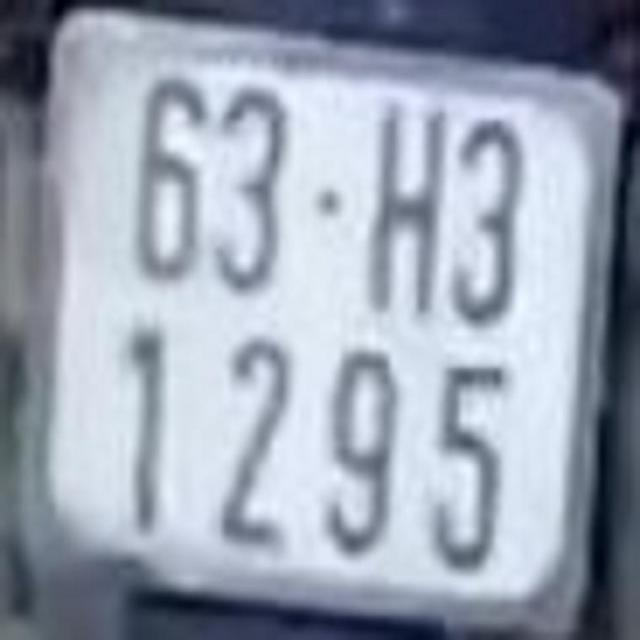1: (125, 332, 173, 534)
2: (212, 319, 288, 540)
3: (452, 114, 522, 325), (215, 81, 280, 290)
5: (430, 363, 510, 568)
6: (130, 77, 202, 274)
9: (322, 340, 393, 554)
H: (362, 107, 441, 320)
